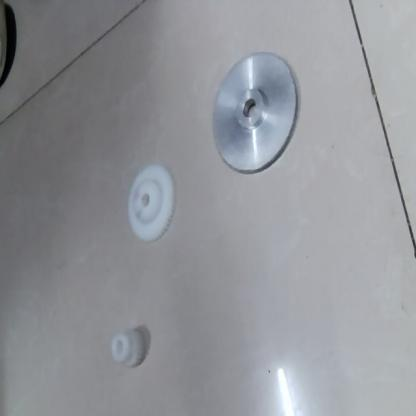FOD: (210, 43, 303, 175), (127, 158, 179, 254), (104, 322, 146, 369)
